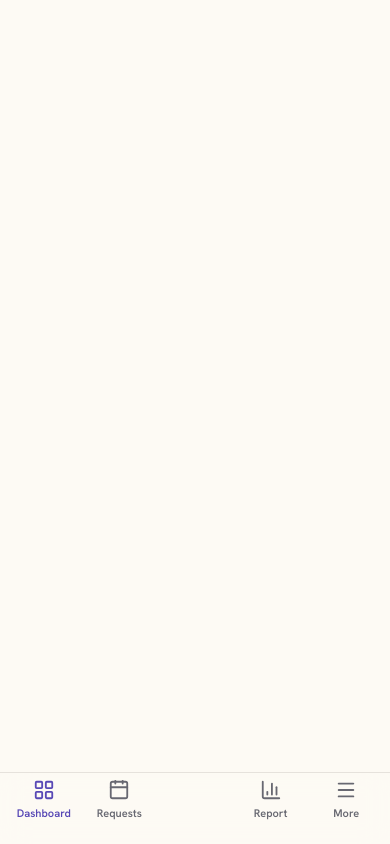
Test: BottomBar › lists the remaining links behind More for a member
Click the button "More" at (346, 808), box top-left (308, 773), bottom-right (384, 843)
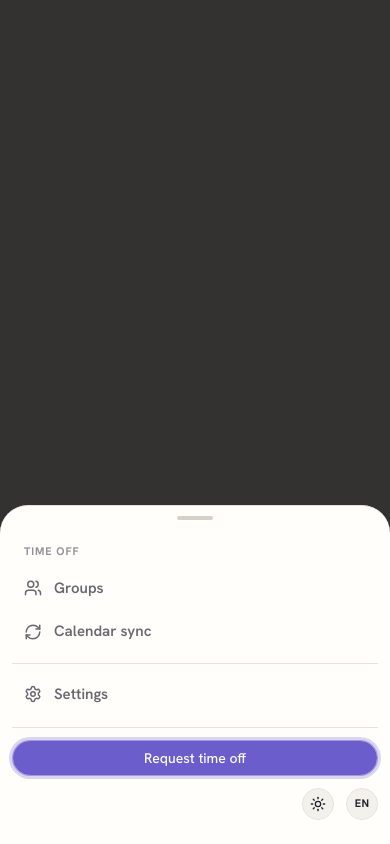
Now the button "More" is expanded, box top-left (308, 773), bottom-right (384, 843)
Now the links read "Groups", "Calendar sync", "Settings", in this order, box top-left (24, 578), bottom-right (104, 598); top-left (24, 621), bottom-right (152, 641); top-left (24, 684), bottom-right (108, 704)
Now the button "Request time off" is shown, box top-left (12, 740), bottom-right (378, 776)
